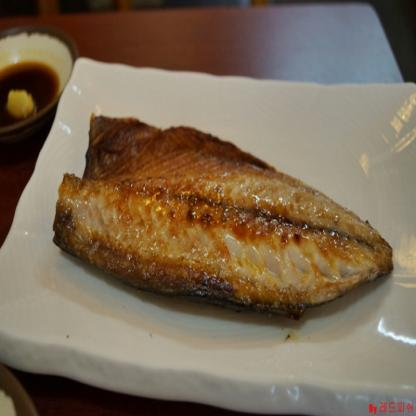Peixe: (46, 110, 398, 347)
